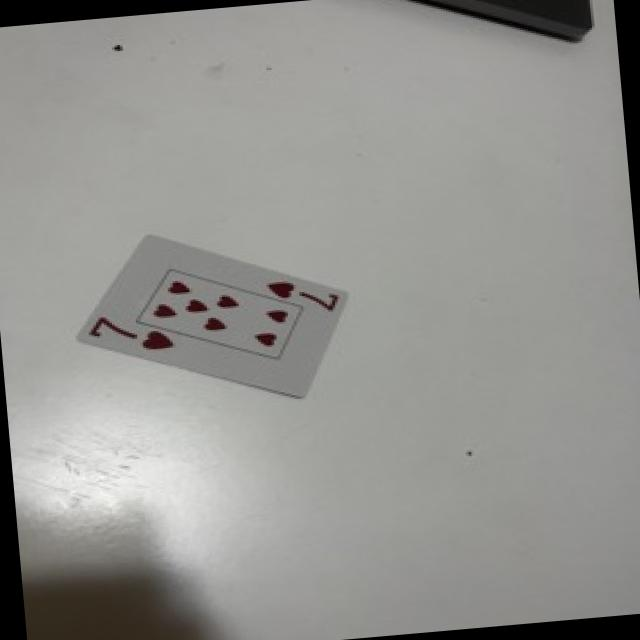7 of hearts: (77, 236, 346, 397)
